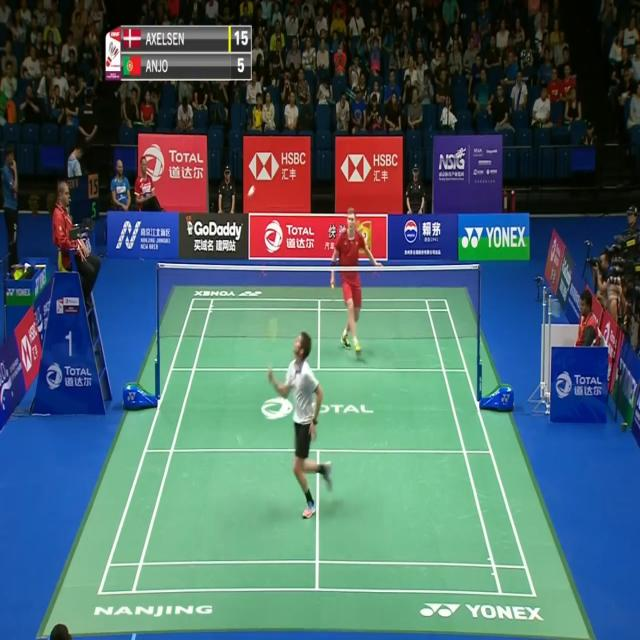Player1: (266, 323, 338, 529)
Player2: (326, 201, 386, 370)
